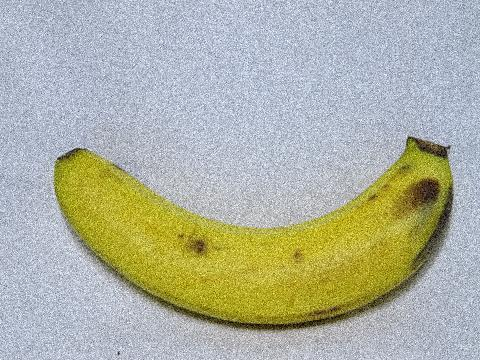freshripe: (43, 112, 471, 359)
